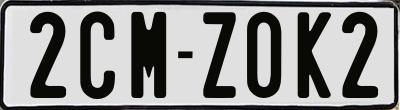0: (247, 9, 283, 99)
2: (340, 12, 376, 103), (29, 12, 67, 98)
C: (79, 10, 118, 101)
K: (298, 11, 334, 102)
M: (128, 10, 166, 101)
Z: (200, 12, 239, 104)
